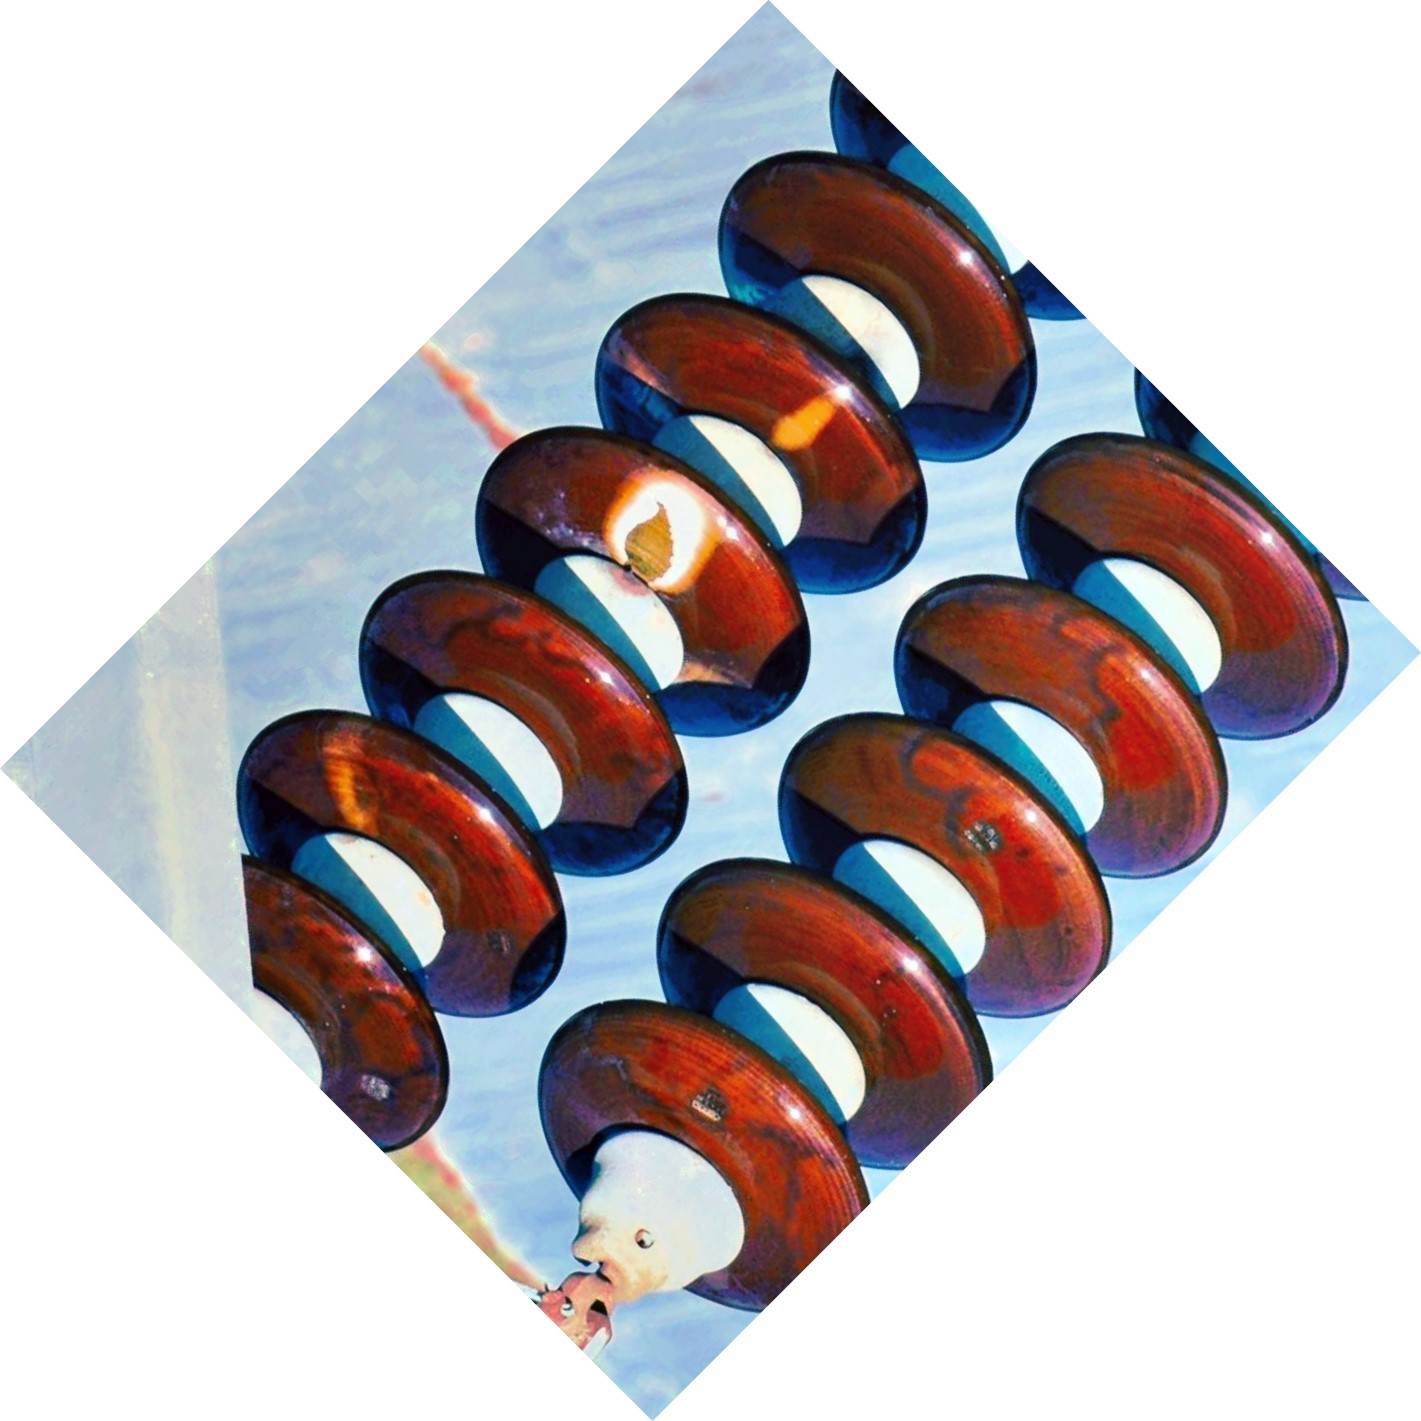Insulator flashover: (448, 414, 817, 755)
